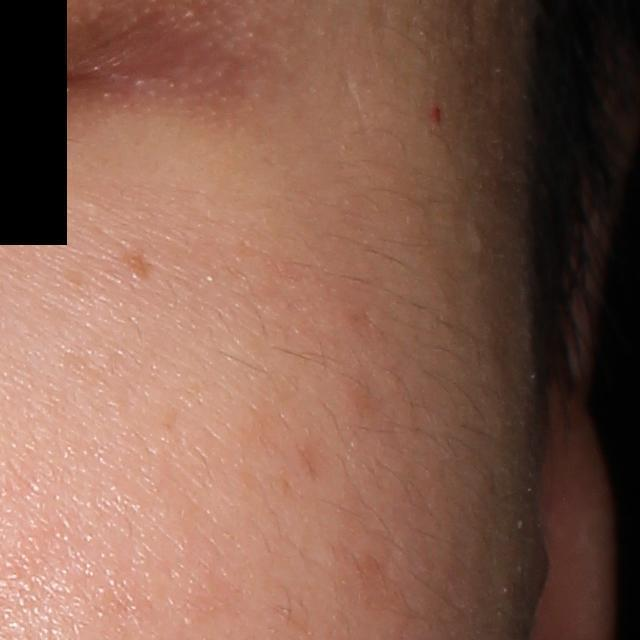comedo: (470, 226, 491, 253)
melasma: (117, 241, 157, 283)
